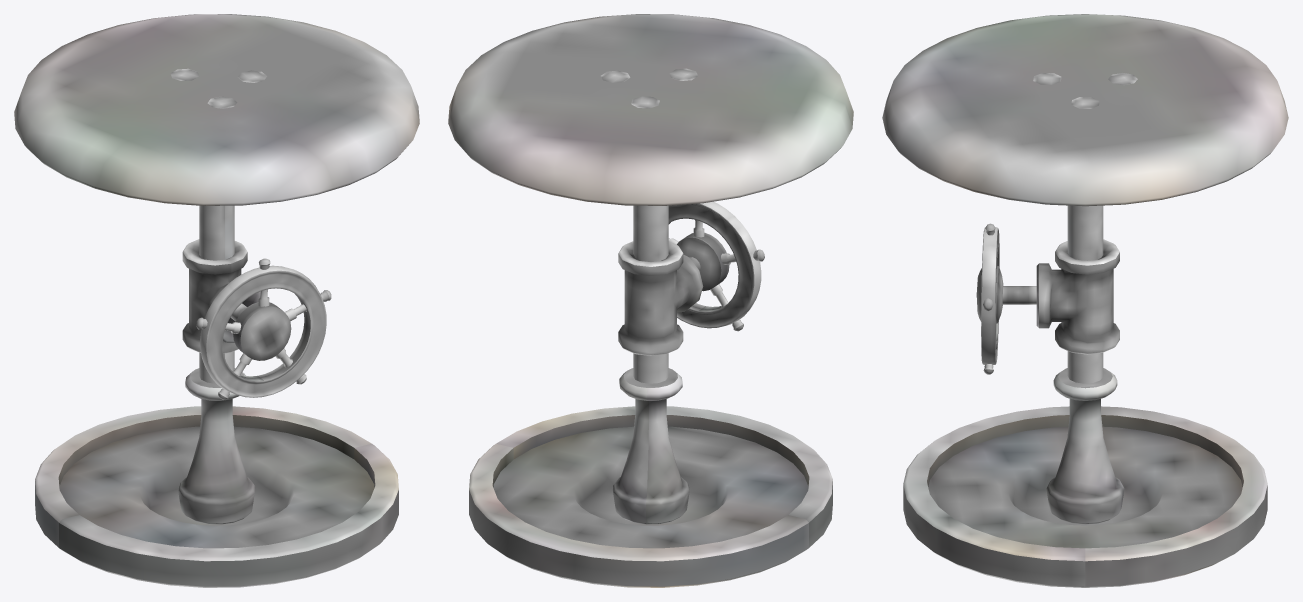
File: SM_AVI_Stool_02_173fc2.glb
3 renders of one model, left to right at view 1: azimuth 30°, elevation 25°; view 2: azimuth 150°, elevation 25°; view 3: azimuth 270°, elevation 25°, orthographic.
Size of the model in its own units: 0.4952 by 0.574 by 0.4952.
1 material, 1 textured.
